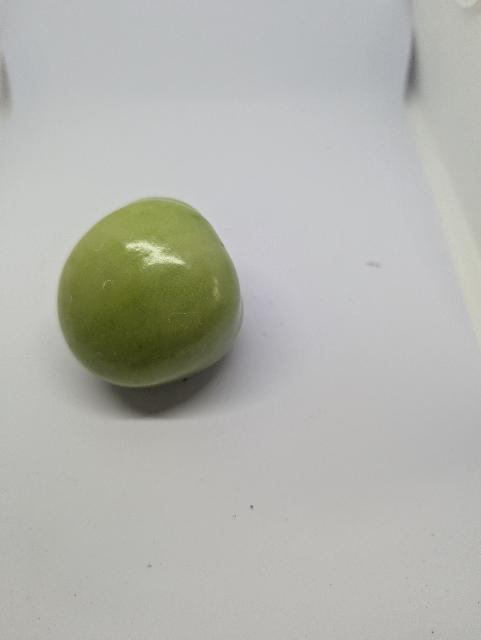green: (48, 193, 269, 415)
